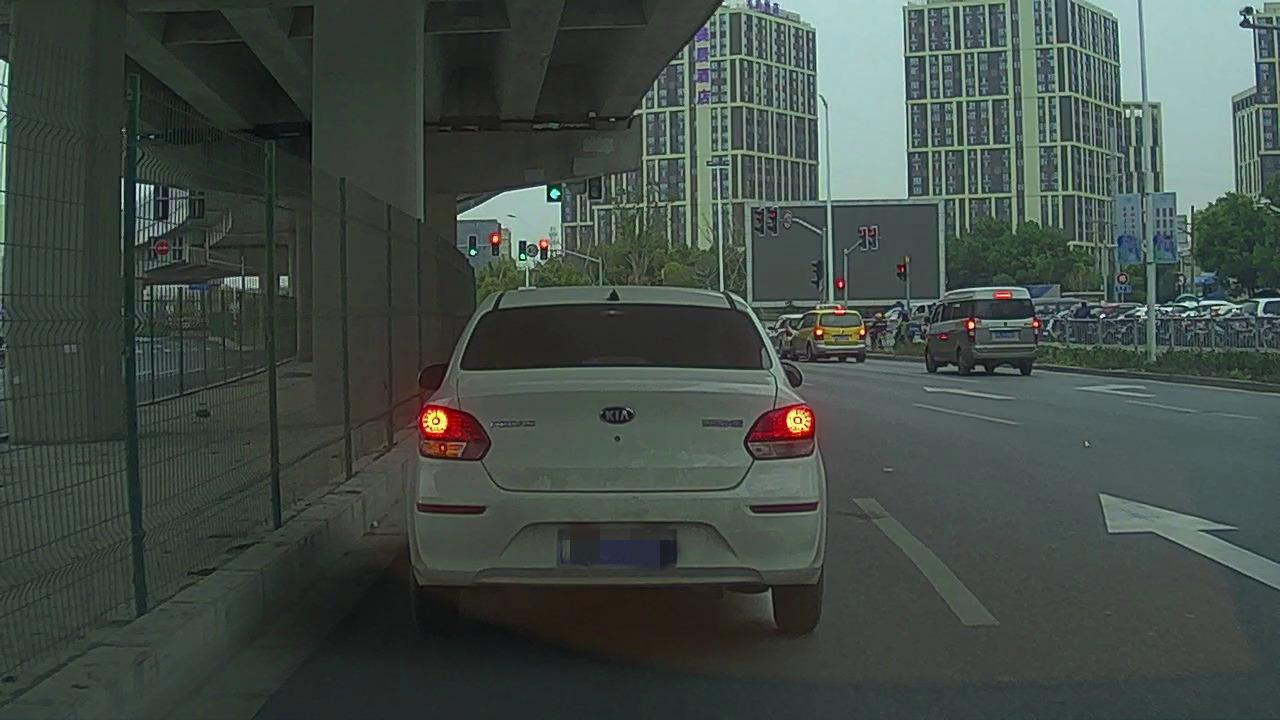traffic_light: (590, 179, 602, 200), (549, 184, 561, 200), (468, 237, 477, 255), (493, 235, 501, 254), (519, 242, 526, 261), (542, 238, 549, 257)
